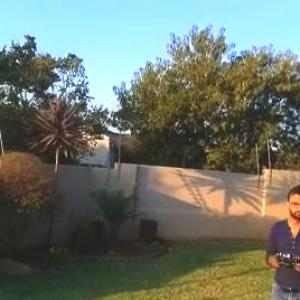follow: (260, 181, 299, 299)
